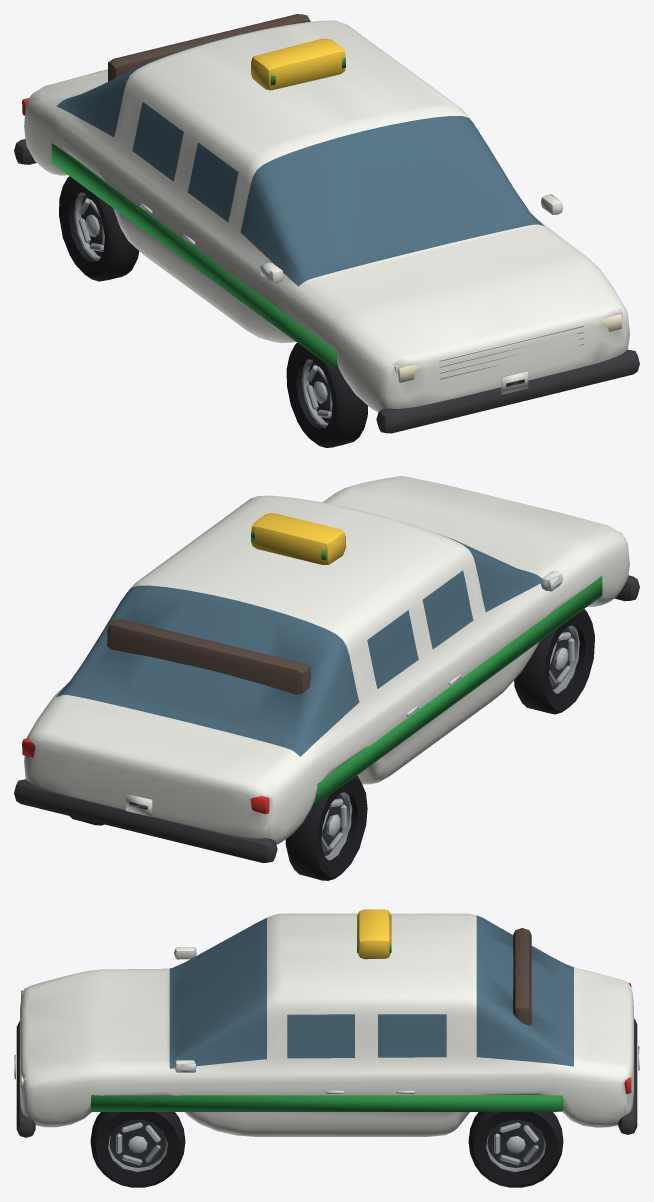
The model's file is veh-taxi.glb.
3 views of the same model, one above another, from view 1: azimuth 30°, elevation 25°; view 2: azimuth 150°, elevation 25°; view 3: azimuth 270°, elevation 25° (orthographic). The views are drawn at different scales.
Parts seen in each view (by area): view 1: body, wheel1, wheel3; view 2: body, wheel3, wheel1; view 3: body, wheel0, wheel2.
Part boxes in pixels (box(x1,y1,x2,y2)): body: box(14, 14, 639, 433); wheel1: box(286, 343, 367, 447); wheel3: box(59, 176, 139, 281); body: box(14, 476, 639, 862); wheel3: box(285, 776, 367, 880); wheel1: box(514, 609, 594, 714); body: box(14, 909, 639, 1137); wheel0: box(90, 1112, 185, 1187); wheel2: box(468, 1112, 563, 1187).
Size of the model in its own units: 1.78 by 1.51 by 3.97.
